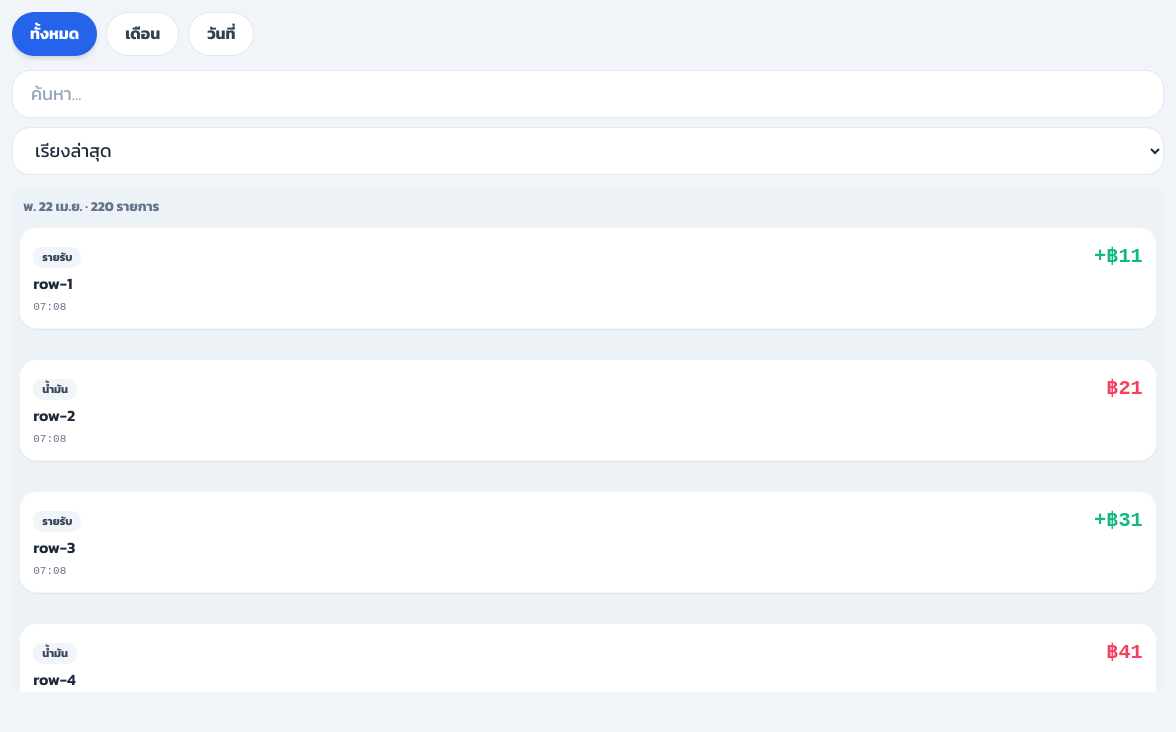
it: RecordManager integration › keeps virtualized rendering functional while filtering/searching
Expected: the text "row-1" is shown, [33,272,73,294]
Expected: the text "row-220" is not shown
Step 1. Type "row-220" into the search field with placeholder "ค้นหา..." → {"x": 588, "y": 94}, box [12,70,1164,118]
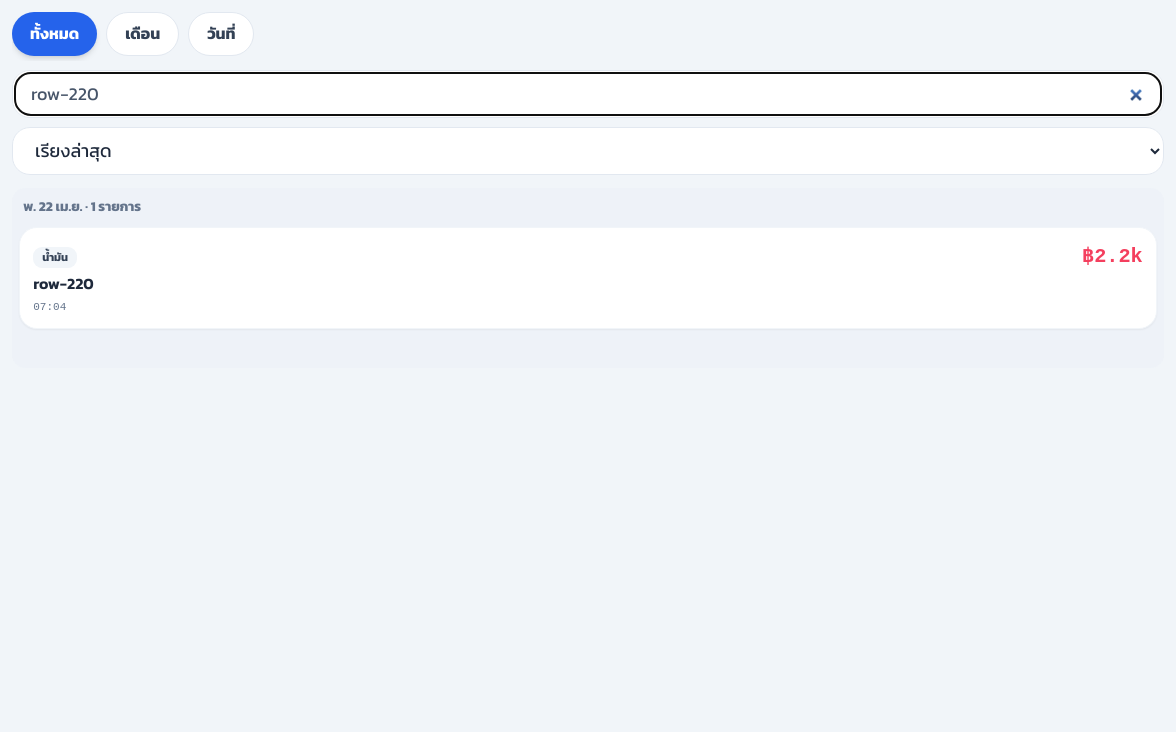
Now the text "row-220" is shown, box [33,272,94,294]
